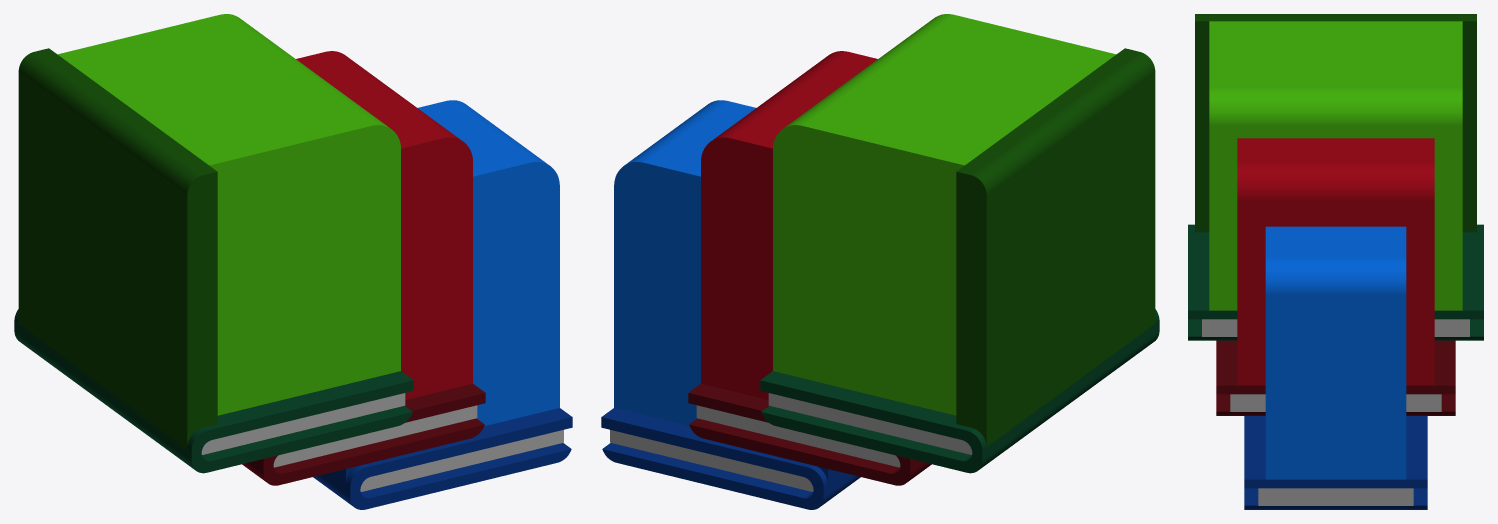
3 views of the same model, side by side, from view 1: azimuth 30°, elevation 25°; view 2: azimuth 150°, elevation 25°; view 3: azimuth 270°, elevation 25° (orthographic). The views are drawn at different scales.
Visible parts, largest first — view 1: U+1F4DA_layer08_obj00, U+1F4DA_layer10_obj00, U+1F4DA_layer00_obj00, U+1F4DA_layer04_obj00, U+1F4DA_layer11_obj00, U+1F4DA_layer03_obj00, U+1F4DA_layer07_obj00, U+1F4DA_layer01_obj00, U+1F4DA_layer09_obj00, U+1F4DA_layer05_obj00; view 2: U+1F4DA_layer08_obj00, U+1F4DA_layer10_obj00, U+1F4DA_layer00_obj00, U+1F4DA_layer04_obj00, U+1F4DA_layer11_obj00, U+1F4DA_layer03_obj00, U+1F4DA_layer07_obj00, U+1F4DA_layer01_obj00, U+1F4DA_layer09_obj00, U+1F4DA_layer05_obj00; view 3: U+1F4DA_layer08_obj00, U+1F4DA_layer00_obj00, U+1F4DA_layer04_obj00, U+1F4DA_layer10_obj00, U+1F4DA_layer03_obj00, U+1F4DA_layer11_obj00, U+1F4DA_layer07_obj00, U+1F4DA_layer01_obj00, U+1F4DA_layer05_obj00, U+1F4DA_layer09_obj00.
Part boxes in pixels (left/top/right/bottom): U+1F4DA_layer08_obj00: left=58, top=14, right=400, bottom=415; U+1F4DA_layer10_obj00: left=18, top=48, right=217, bottom=451; U+1F4DA_layer00_obj00: left=418, top=100, right=559, bottom=425; U+1F4DA_layer04_obj00: left=296, top=51, right=472, bottom=399; U+1F4DA_layer11_obj00: left=14, top=309, right=413, bottom=473; U+1F4DA_layer03_obj00: left=313, top=408, right=572, bottom=509; U+1F4DA_layer07_obj00: left=242, top=383, right=485, bottom=485; U+1F4DA_layer01_obj00: left=360, top=430, right=563, bottom=491; U+1F4DA_layer09_obj00: left=201, top=393, right=405, bottom=454; U+1F4DA_layer05_obj00: left=273, top=405, right=477, bottom=467; U+1F4DA_layer08_obj00: left=773, top=14, right=1115, bottom=415; U+1F4DA_layer10_obj00: left=956, top=48, right=1155, bottom=446; U+1F4DA_layer00_obj00: left=614, top=100, right=755, bottom=425; U+1F4DA_layer04_obj00: left=701, top=51, right=877, bottom=399; U+1F4DA_layer11_obj00: left=760, top=309, right=1159, bottom=473; U+1F4DA_layer03_obj00: left=601, top=408, right=860, bottom=509; U+1F4DA_layer07_obj00: left=688, top=383, right=931, bottom=485; U+1F4DA_layer01_obj00: left=610, top=430, right=813, bottom=491; U+1F4DA_layer09_obj00: left=768, top=393, right=972, bottom=454; U+1F4DA_layer05_obj00: left=696, top=405, right=900, bottom=467; U+1F4DA_layer08_obj00: left=1209, top=21, right=1462, bottom=310; U+1F4DA_layer00_obj00: left=1265, top=226, right=1406, bottom=479; U+1F4DA_layer04_obj00: left=1237, top=138, right=1434, bottom=385; U+1F4DA_layer10_obj00: left=1195, top=14, right=1476, bottom=232; U+1F4DA_layer03_obj00: left=1244, top=416, right=1427, bottom=509; U+1F4DA_layer11_obj00: left=1188, top=224, right=1483, bottom=340; U+1F4DA_layer07_obj00: left=1216, top=340, right=1455, bottom=415; U+1F4DA_layer01_obj00: left=1258, top=488, right=1413, bottom=505; U+1F4DA_layer05_obj00: left=1230, top=394, right=1441, bottom=411; U+1F4DA_layer09_obj00: left=1202, top=319, right=1469, bottom=336.
Bounding box in the file's own units: 0.5678 × 0.5271 × 0.42.
